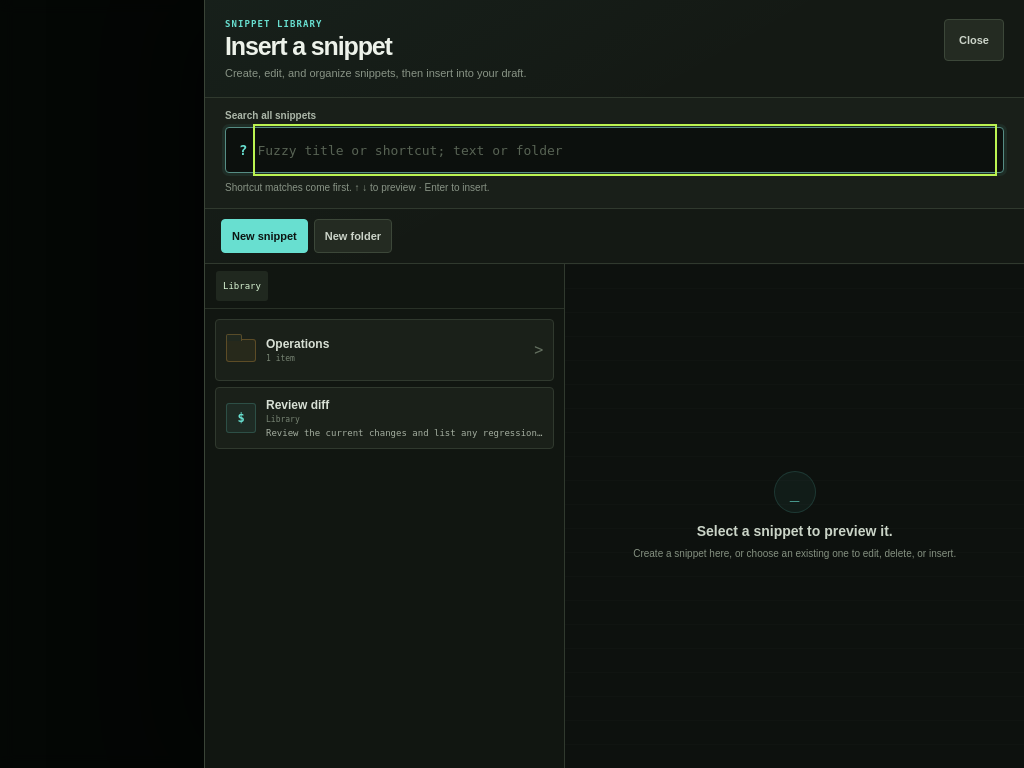
SnippetPickerDialog › edits folder names and locations without losing their snippets or allowing cyclic moves
The width and height of the screenshot is (1024, 768).
Click the button with aria-label "Open folder Operations": coordinates (298, 344) [215,319,554,381]
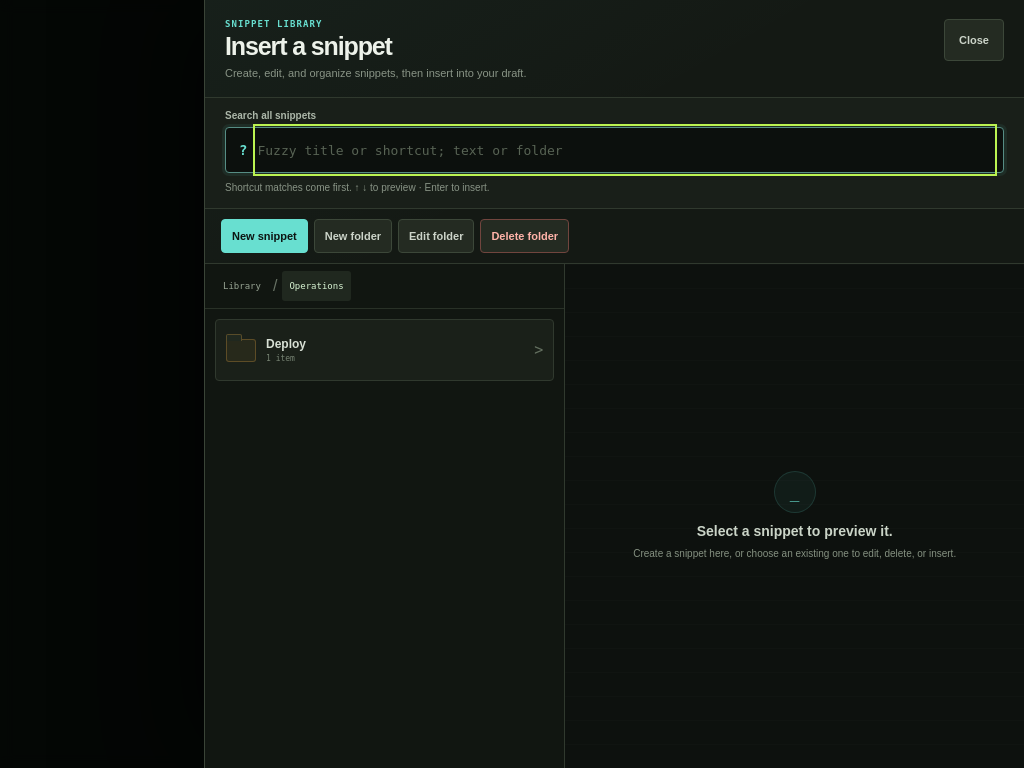
Click the button "Edit folder": coordinates (436, 236) [398,219,474,253]
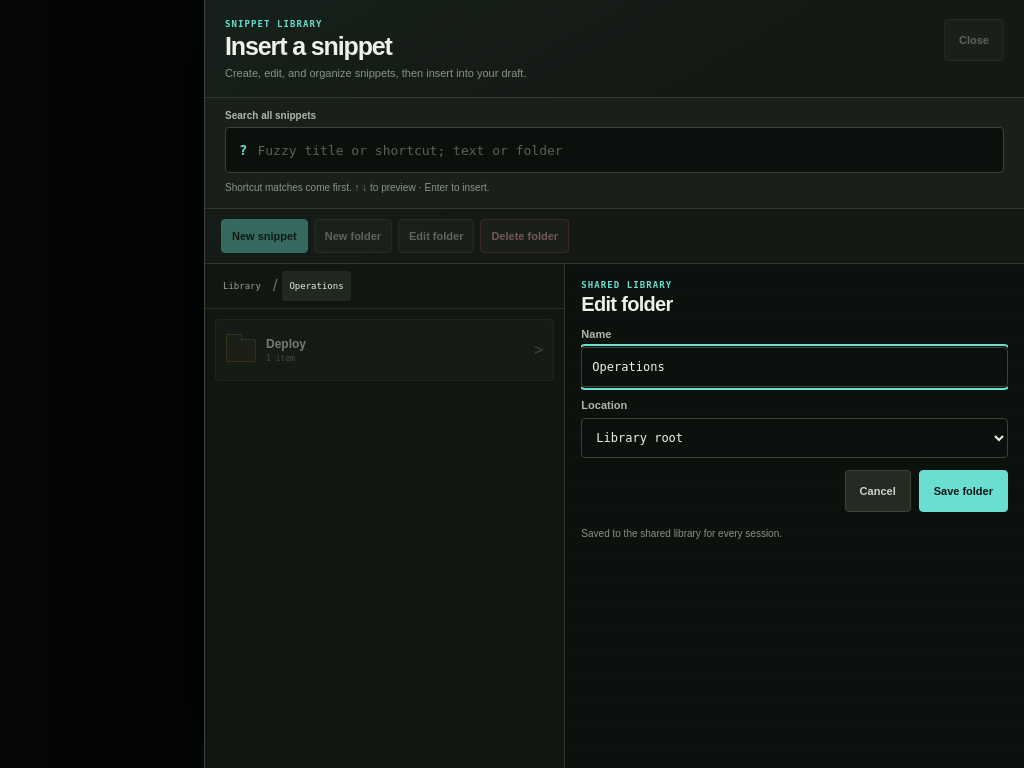
Check: the option "Operations / Deploy" is not shown
Click the button "Cancel": coordinates (878, 491) [845,470,911,512]
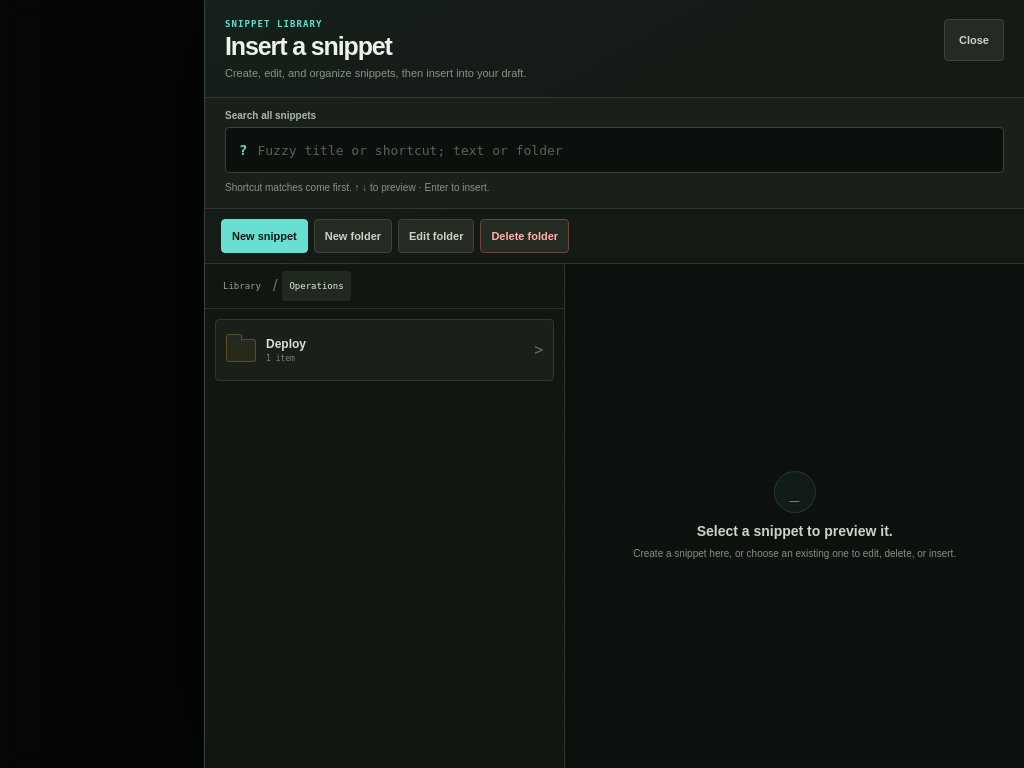
Click the button with aria-label "Open folder Deploy": coordinates (286, 344) [215,319,554,381]
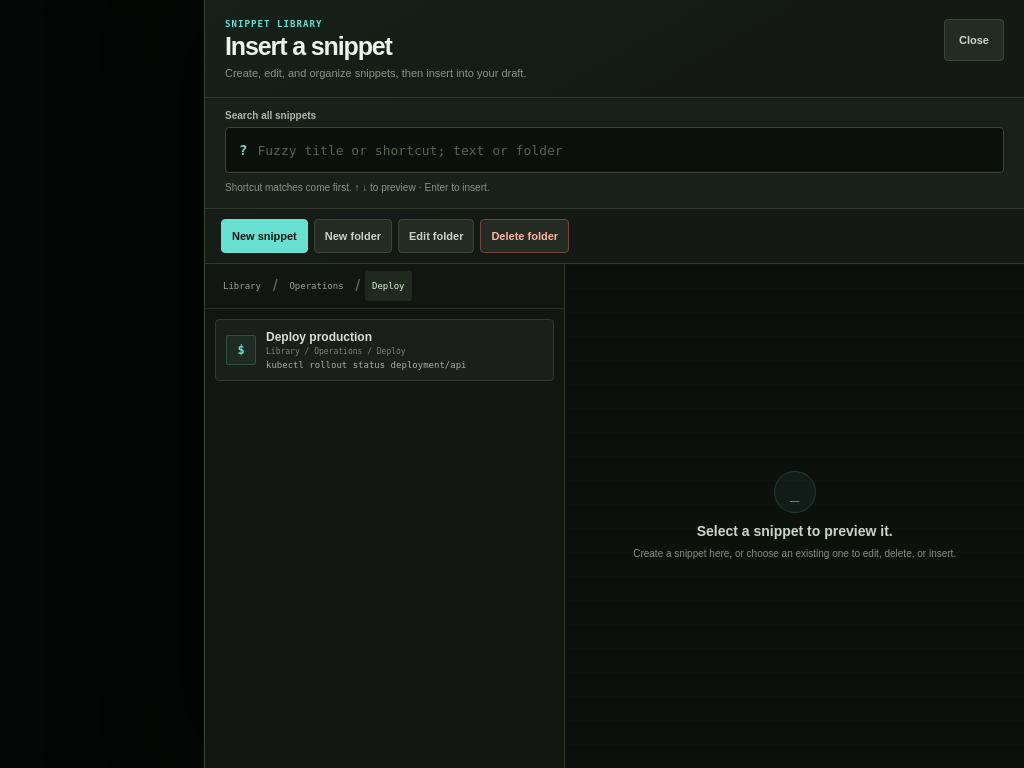
Click the button "Edit folder": coordinates (436, 236) [398,219,474,253]
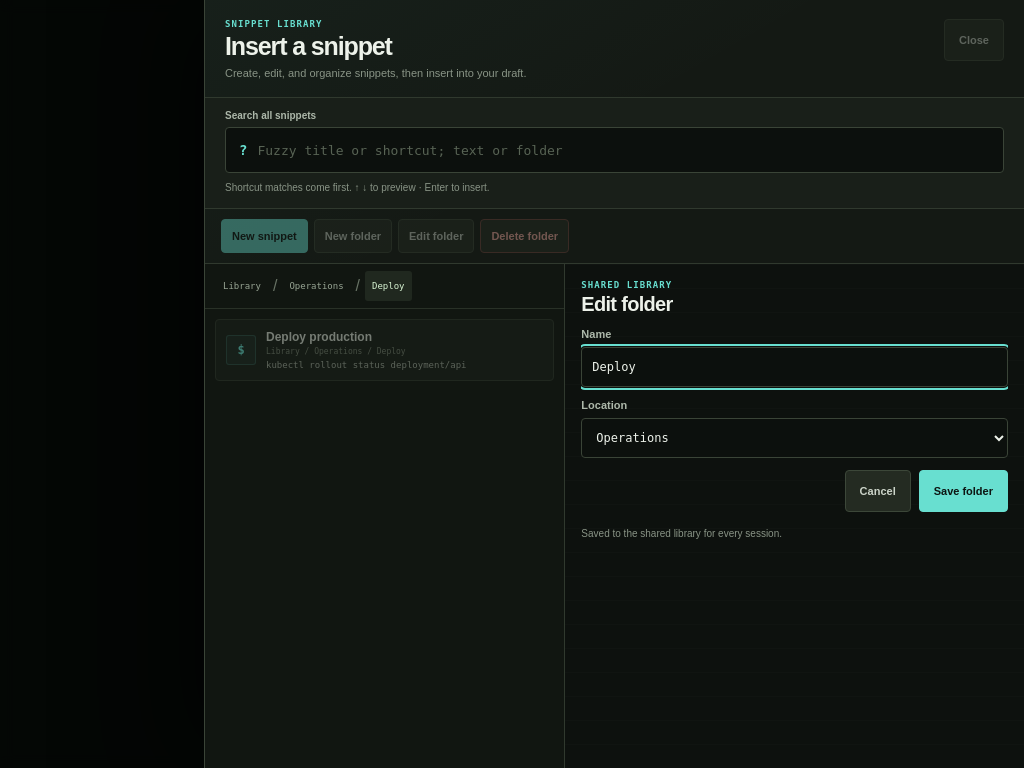
Replace the text in the field labelled "Name" with "Release": coordinates (795, 367) [581,347,1008,387]
Select "Library root" in the dropdown labelled "Location": coordinates (795, 438) [581,418,1008,458]
Click the button "Save folder": coordinates (963, 491) [919,470,1008,512]
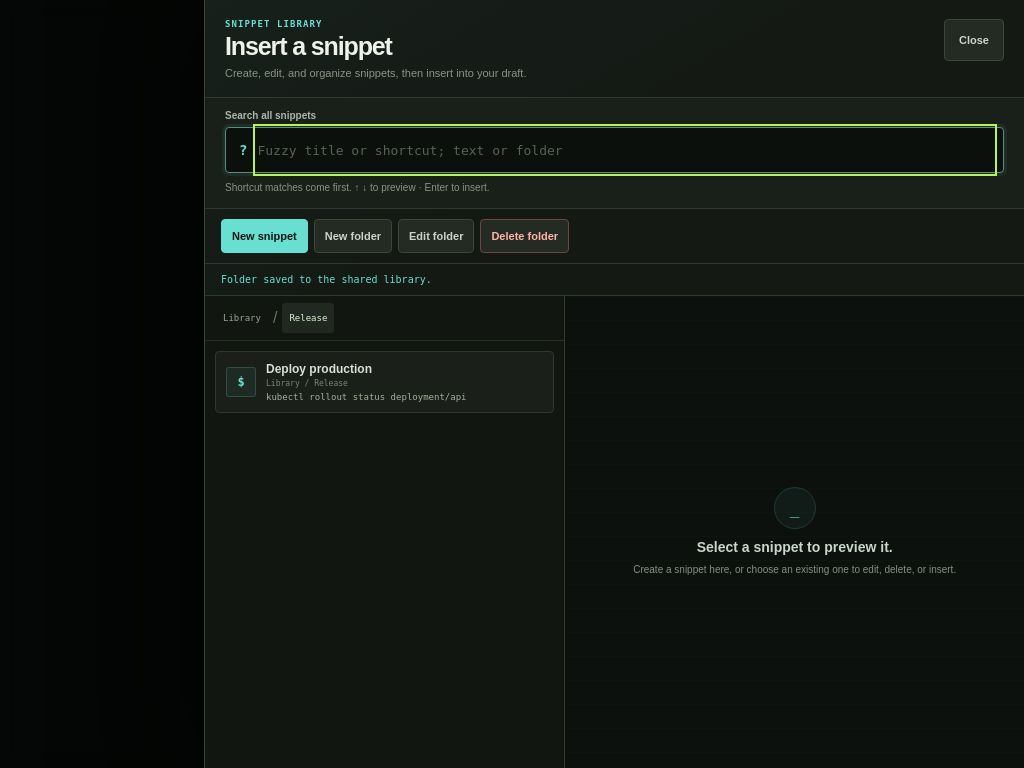
Check: the button "Save folder" is gone
